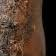plaque psoriasis: (0, 0, 34, 56)
